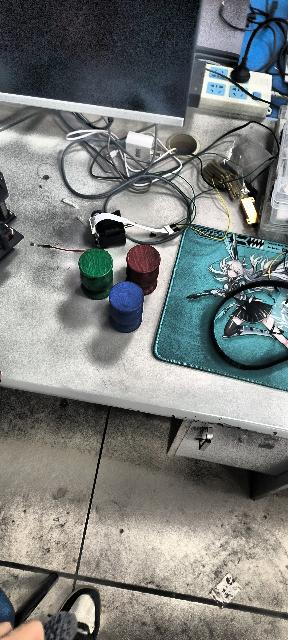blue: (107, 280, 145, 332)
green: (74, 246, 112, 296)
red: (124, 242, 164, 296)
